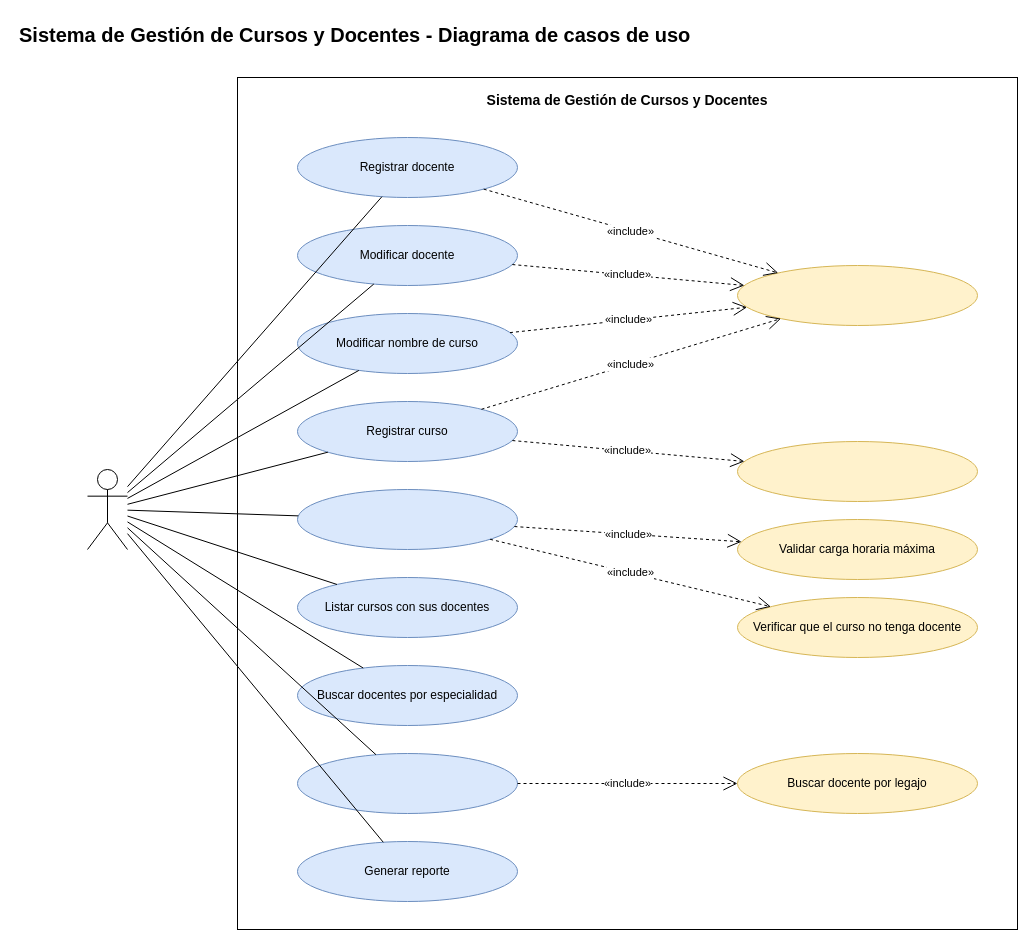
Image size: 1035x947. Some labels were removed from this diagram. The shapes that lost their labels are listed below. From the top down, each one's centre as x and y in pixels, then its label:
the point at 857,295: Validar datos del formulario
the point at 857,471: Validar código de curso no repetido
the point at 107,509: Administrativo / Bedel
the point at 407,519: Asignar docente a curso
the point at 407,783: Ver detalle de docente por legajo
